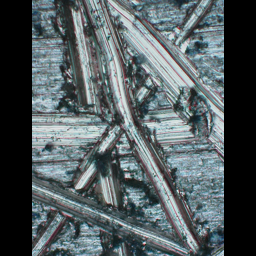d: (81, 1, 204, 255), (111, 0, 223, 168), (33, 167, 192, 256), (59, 1, 102, 117)
